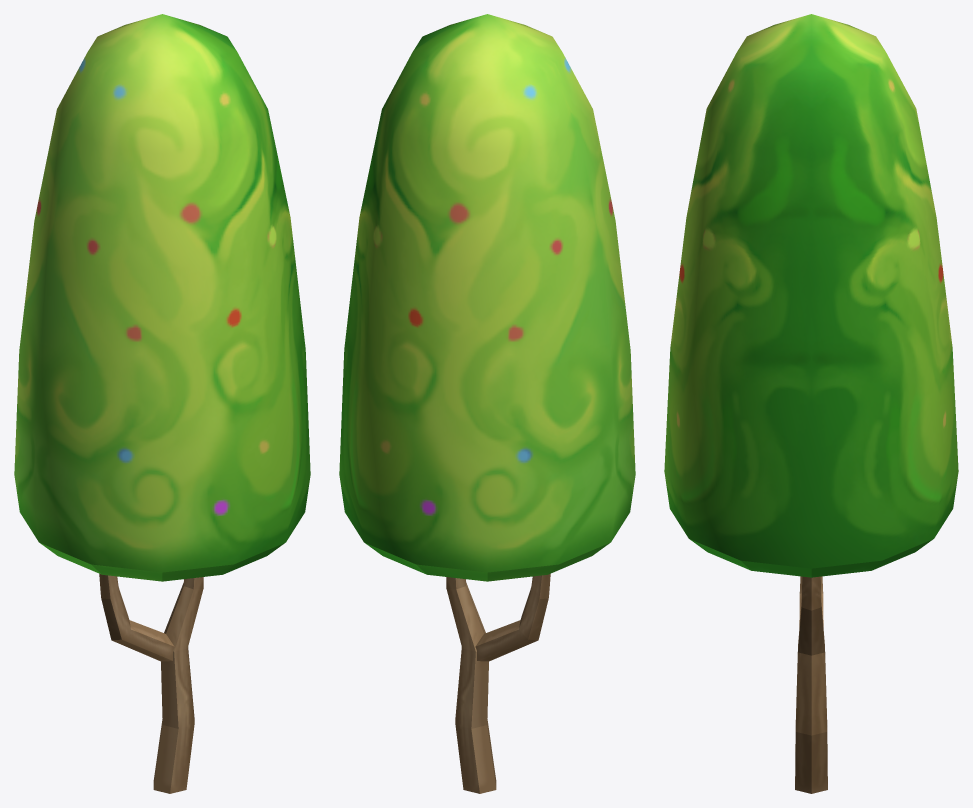
Rendered from zhucheng_shu.FBX.
The picture shows the model from 3 angles, left to right: view 1: azimuth 30°, elevation 25°; view 2: azimuth 150°, elevation 25°; view 3: azimuth 270°, elevation 25°; orthographic projection.
Visible parts, largest first — view 1: zhucheng_shu; view 2: zhucheng_shu; view 3: zhucheng_shu.
Part boxes in pixels (<box>): zhucheng_shu: <box>14,14,310,793</box>; zhucheng_shu: <box>339,14,635,793</box>; zhucheng_shu: <box>664,14,958,793</box>.
Size of the model in its own units: 97.5 by 281 by 97.5.
